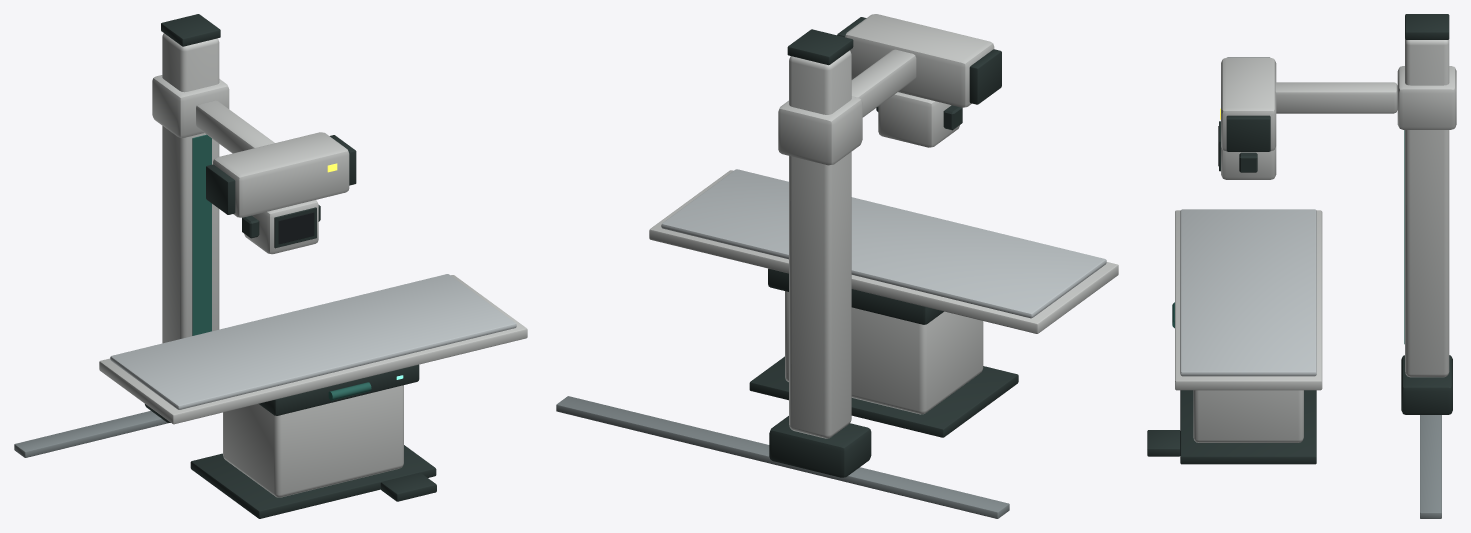
Rendered from xray-machine.glb.
The picture shows the model from 3 angles, left to right: view 1: azimuth 30°, elevation 25°; view 2: azimuth 150°, elevation 25°; view 3: azimuth 270°, elevation 25°; orthographic projection. The views are drawn at different scales.
Parts seen in each view (by area): view 1: xray-machine; view 2: xray-machine; view 3: xray-machine.
Part boxes in pixels (left/top/right/bottom): xray-machine: left=14, top=14, right=527, bottom=518; xray-machine: left=556, top=14, right=1118, bottom=518; xray-machine: left=1147, top=14, right=1456, bottom=518.
Bounding box in the file's own units: 2.5 × 2.3 × 1.68.
